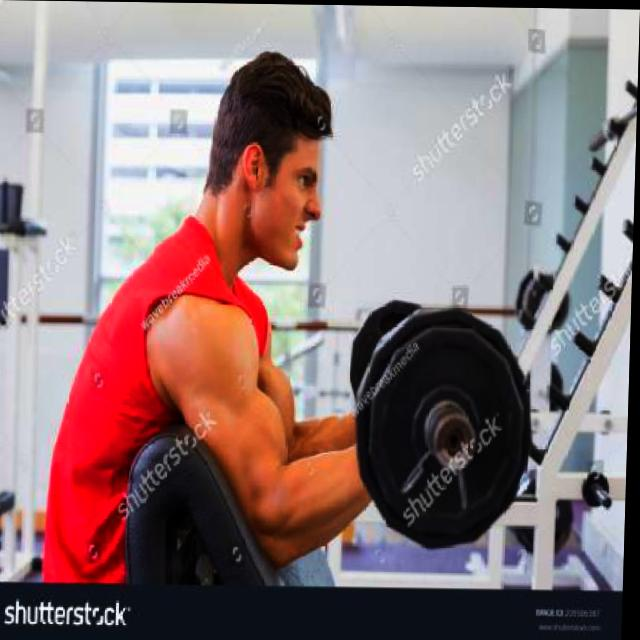barbell: (350, 298, 543, 553)
